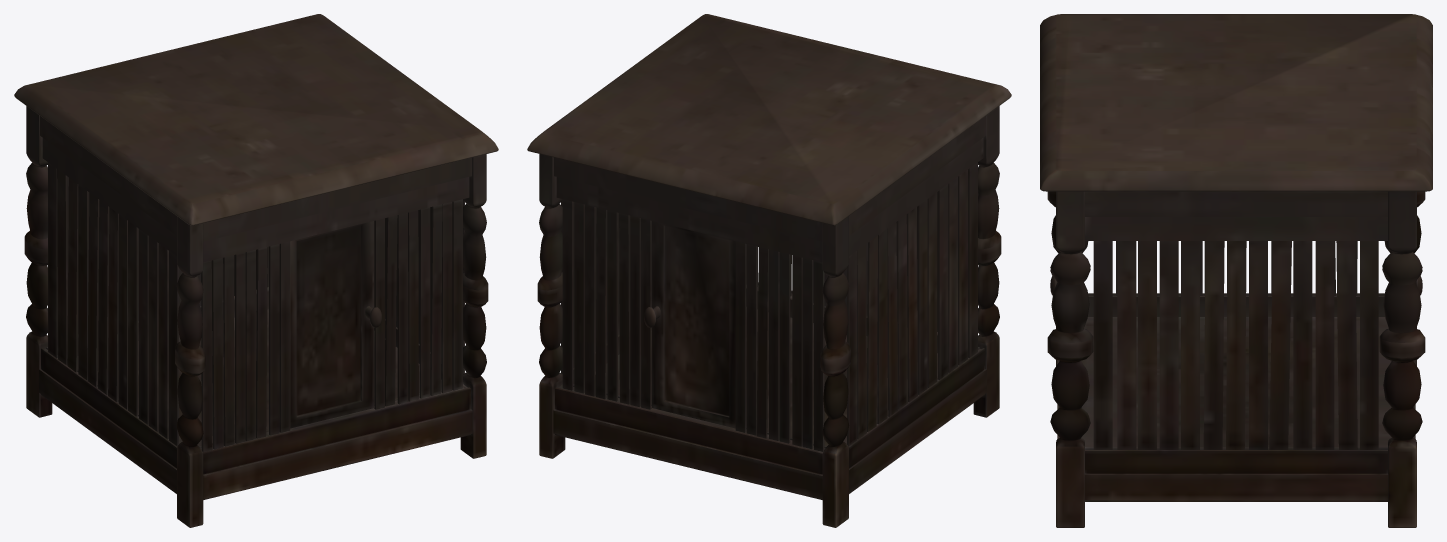
File: ph-gallinera-table.glb
3 views of the same model, side by side, from view 1: azimuth 30°, elevation 25°; view 2: azimuth 150°, elevation 25°; view 3: azimuth 270°, elevation 25° (orthographic). The views are drawn at different scales.
Visible parts, largest first — view 1: gallinera_table; view 2: gallinera_table; view 3: gallinera_table.
Boxes of the visible parts, <box> form: gallinera_table: <box>14,14,498,527</box>; gallinera_table: <box>527,14,1011,527</box>; gallinera_table: <box>1040,14,1432,527</box>.
Size of the model in its own units: 1 by 1 by 1.
Materials: 1 (1 with a texture image).
